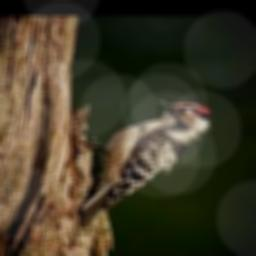Woodpecker: (81, 99, 214, 226)
